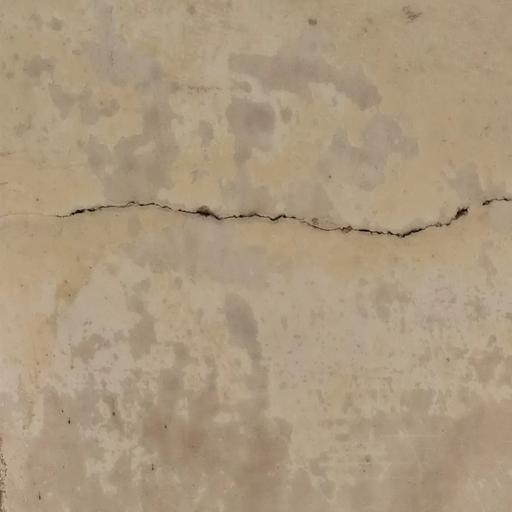major_crack: (38, 160, 512, 265)
